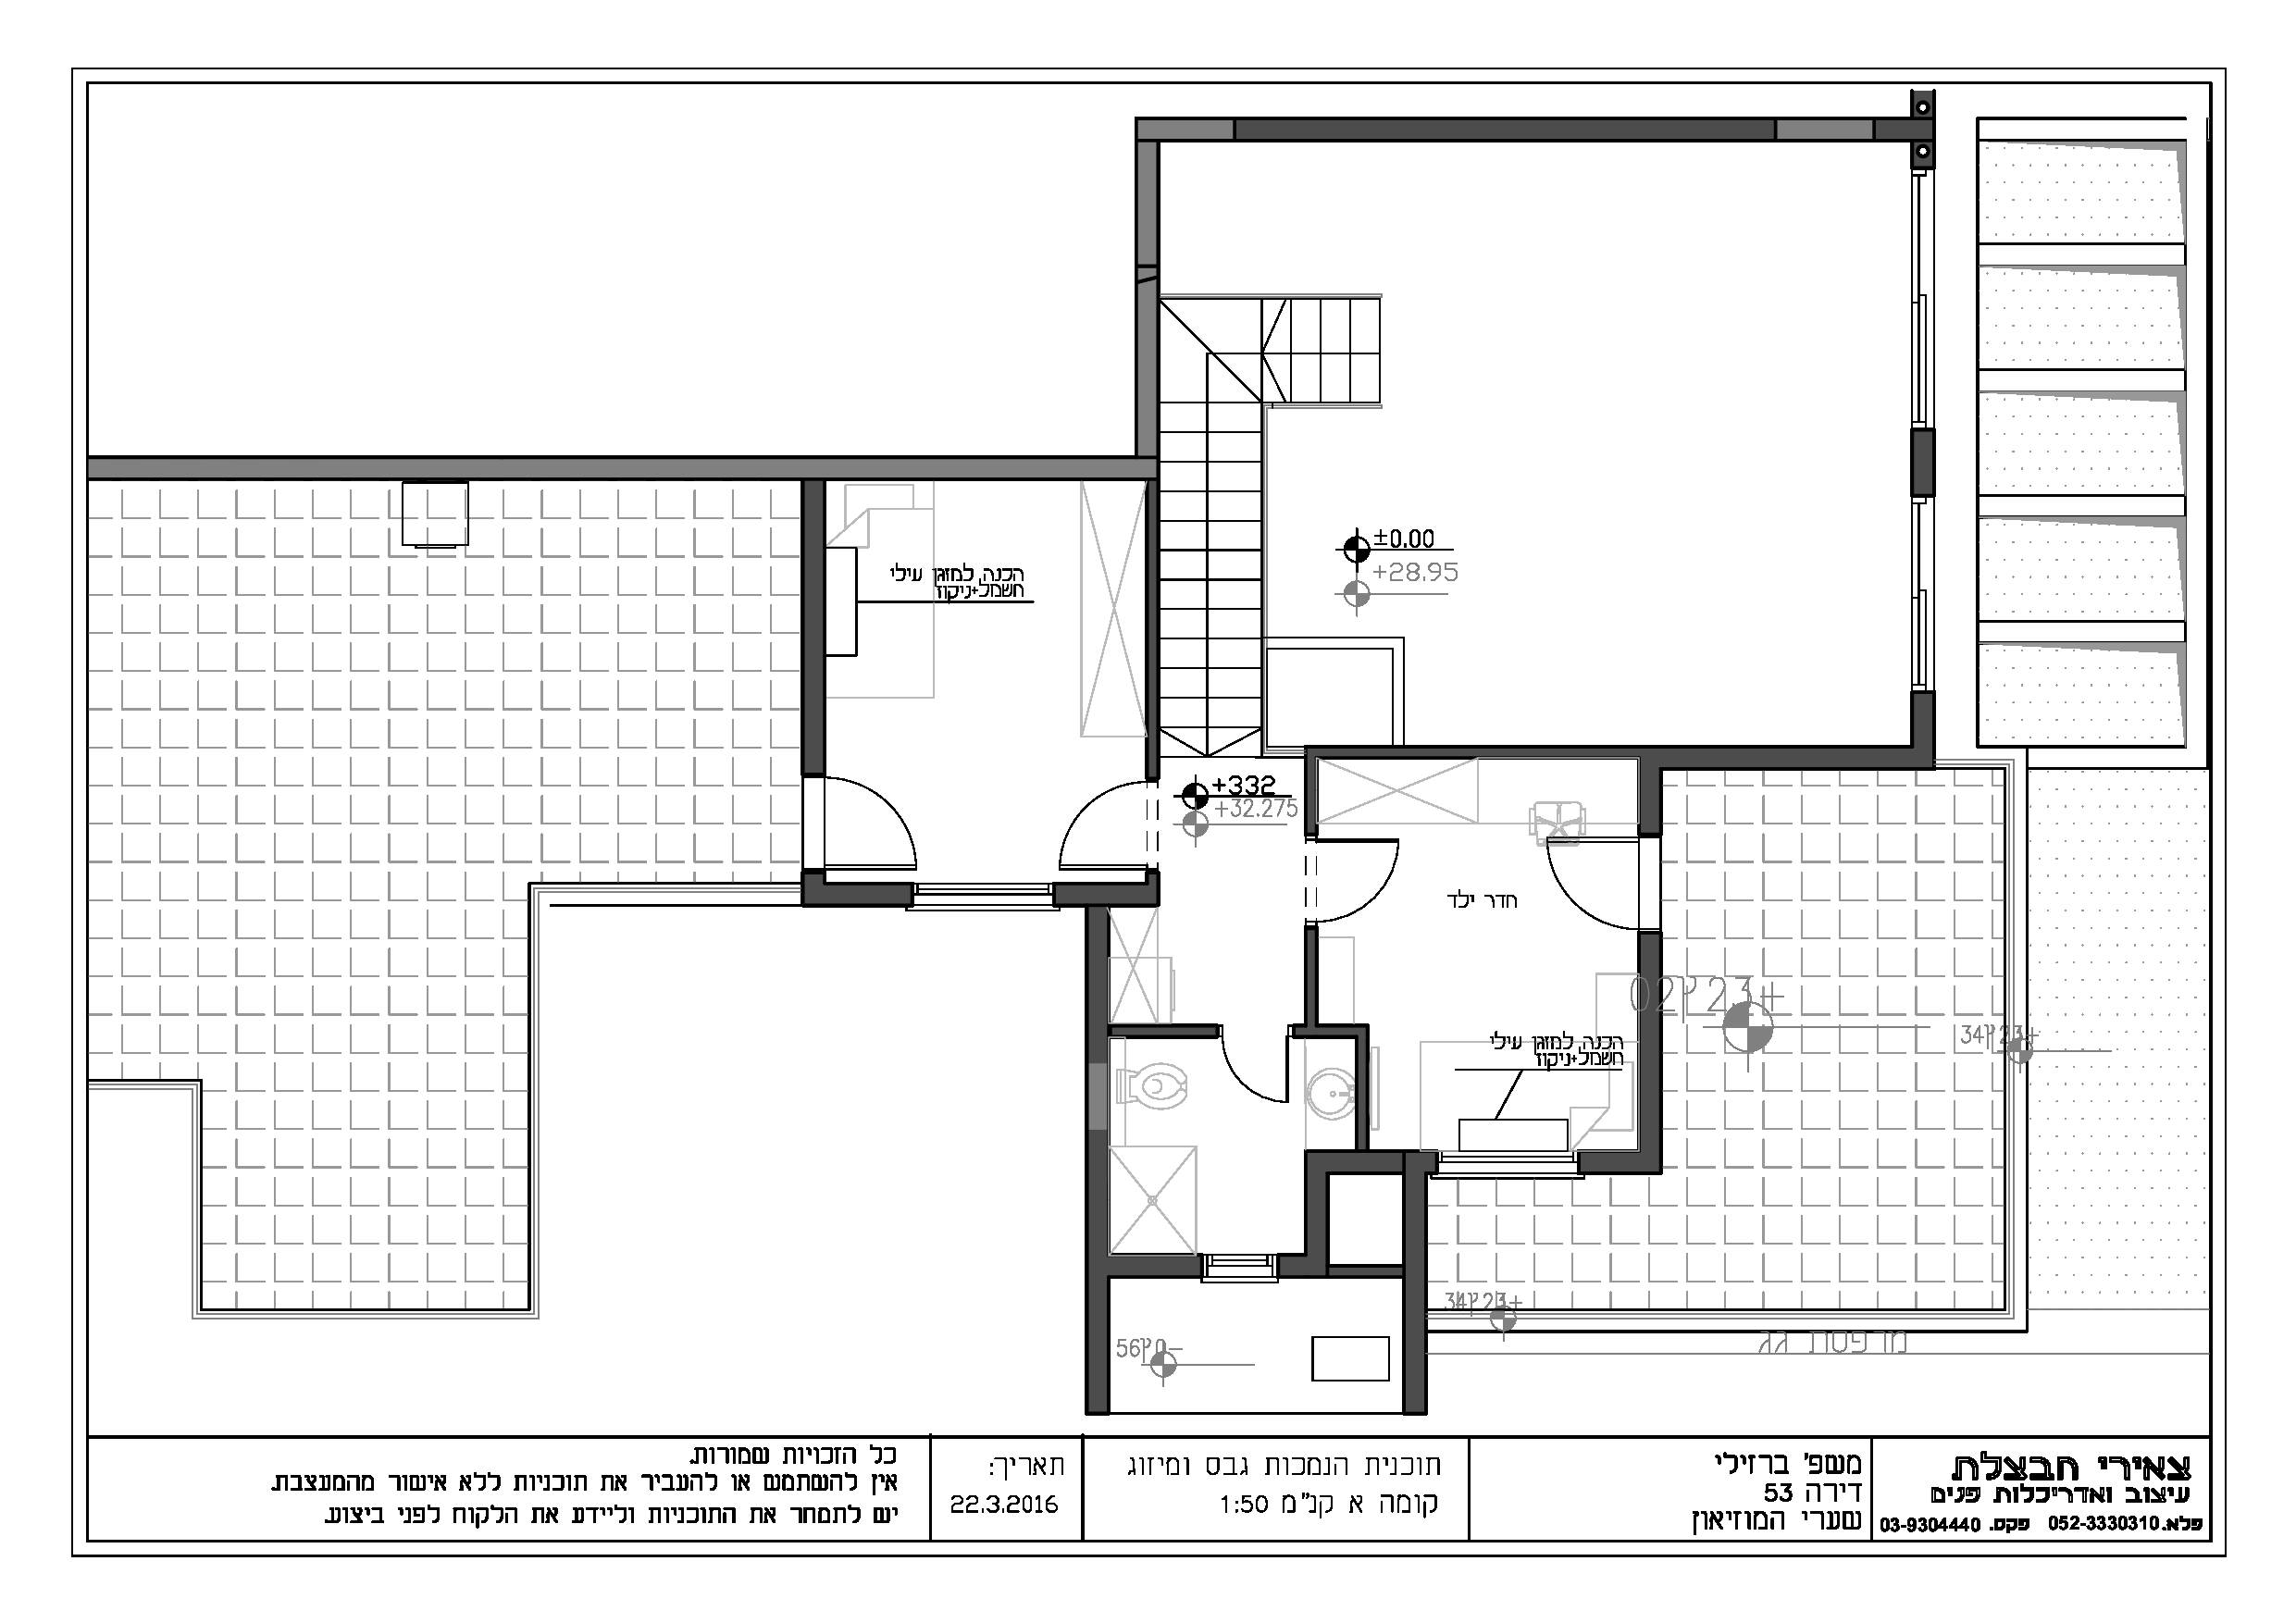door: (1043, 769, 1177, 891), (815, 783, 947, 905), (1537, 820, 1671, 940), (1188, 1010, 1321, 1129), (1282, 819, 1414, 938)
wall: (1305, 743, 1934, 769), (1138, 119, 1932, 139), (1135, 118, 1159, 480), (1639, 929, 1662, 1170)
window: (1906, 151, 1946, 450), (891, 862, 1079, 924), (1425, 1135, 1593, 1196), (1901, 480, 1943, 715), (1186, 1235, 1288, 1302)
